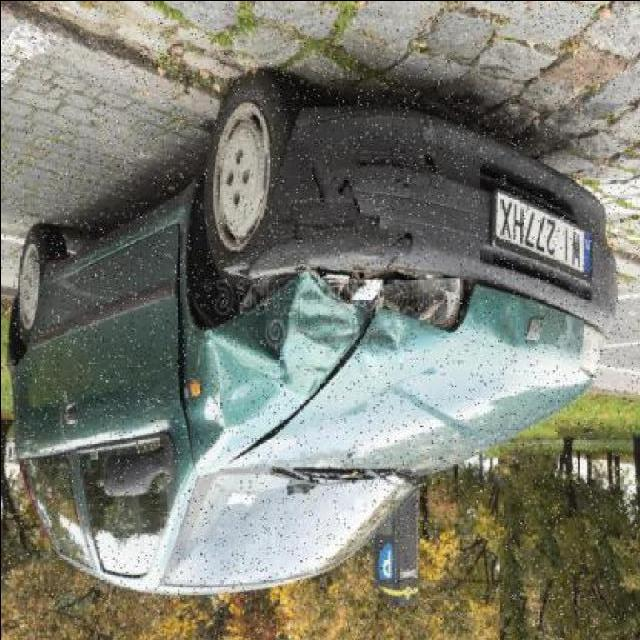Headlight-Damage: (317, 248, 486, 352)
fender-dent: (176, 250, 345, 417)
front-bumper-dent: (277, 90, 546, 268)
